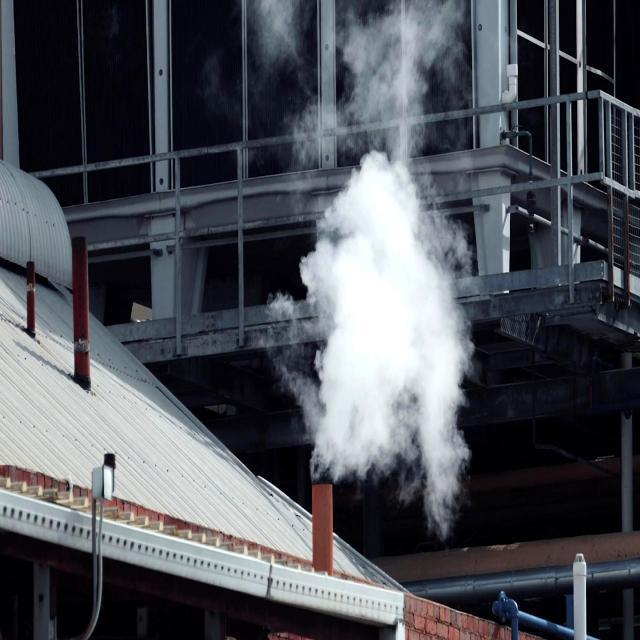Smoke: (266, 0, 494, 474)
